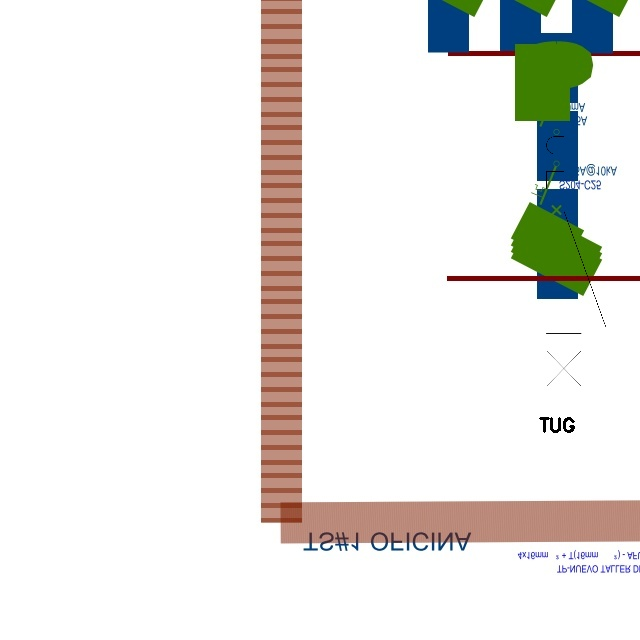interruptor_termomagnetico: (539, 107, 613, 411)
